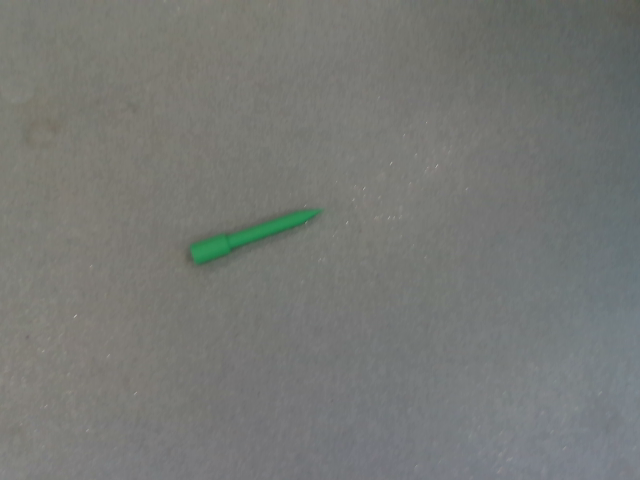Probe: (183, 204, 327, 272)
